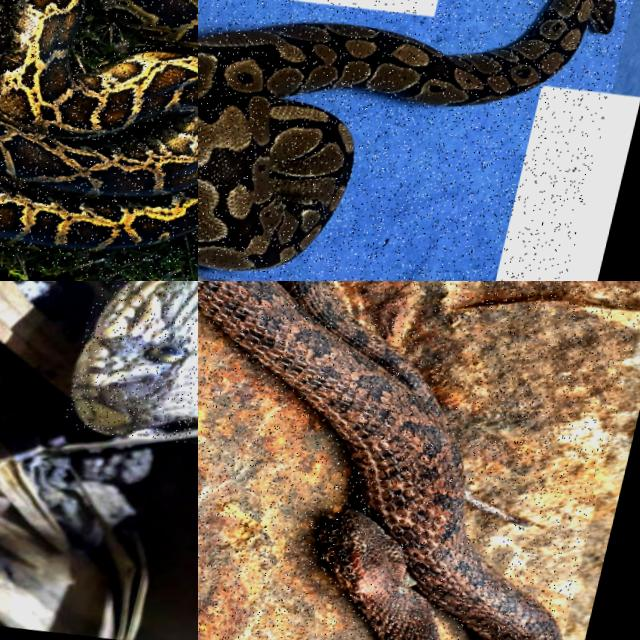Daboia siamensis: (71, 281, 197, 435)
Ovophis monticola: (198, 281, 560, 639)
Python bivittatus: (198, 0, 615, 270), (0, 0, 197, 251)
snake: (198, 281, 560, 639), (198, 0, 615, 270), (0, 0, 197, 251), (71, 281, 197, 435)
